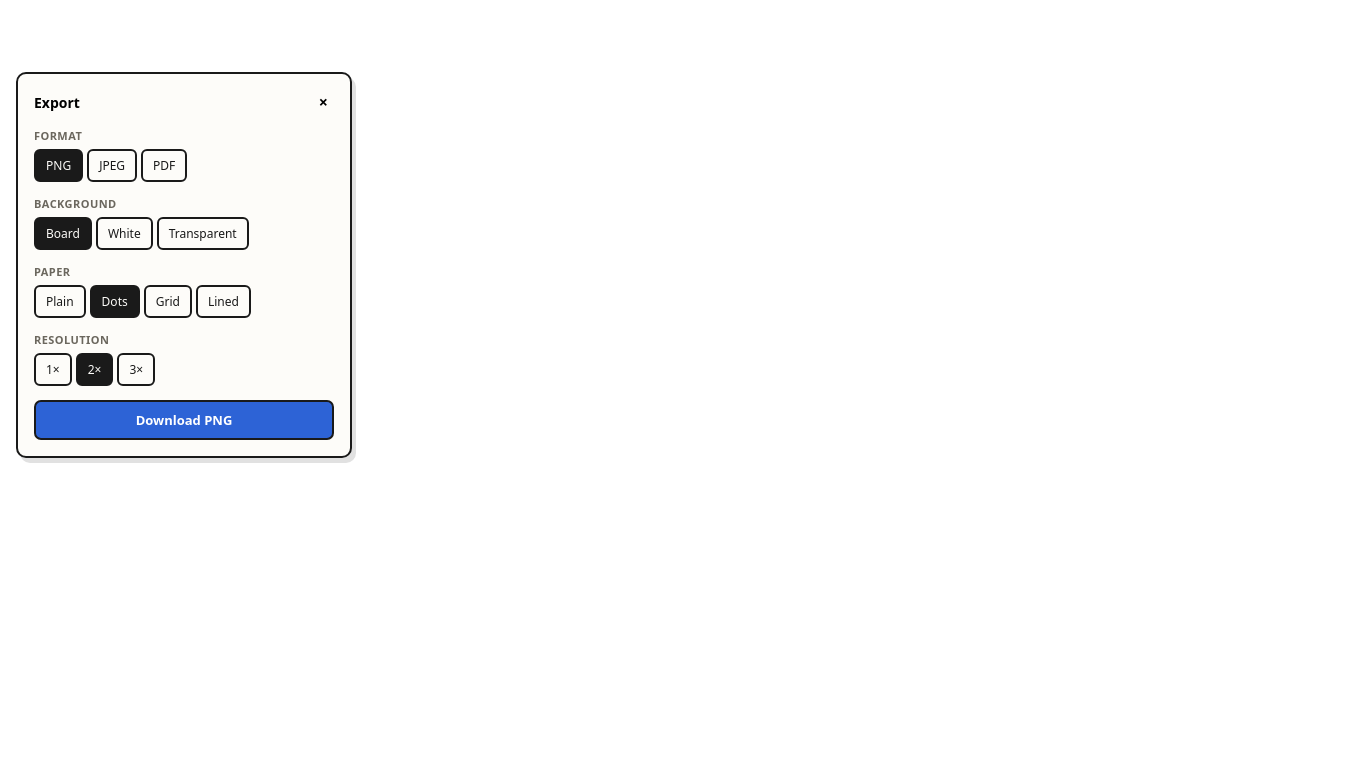
Scenario: ExportDialog › shows what went wrong and stays open
Click the button with test id "export-go": click(184, 420) [34,400,334,440]
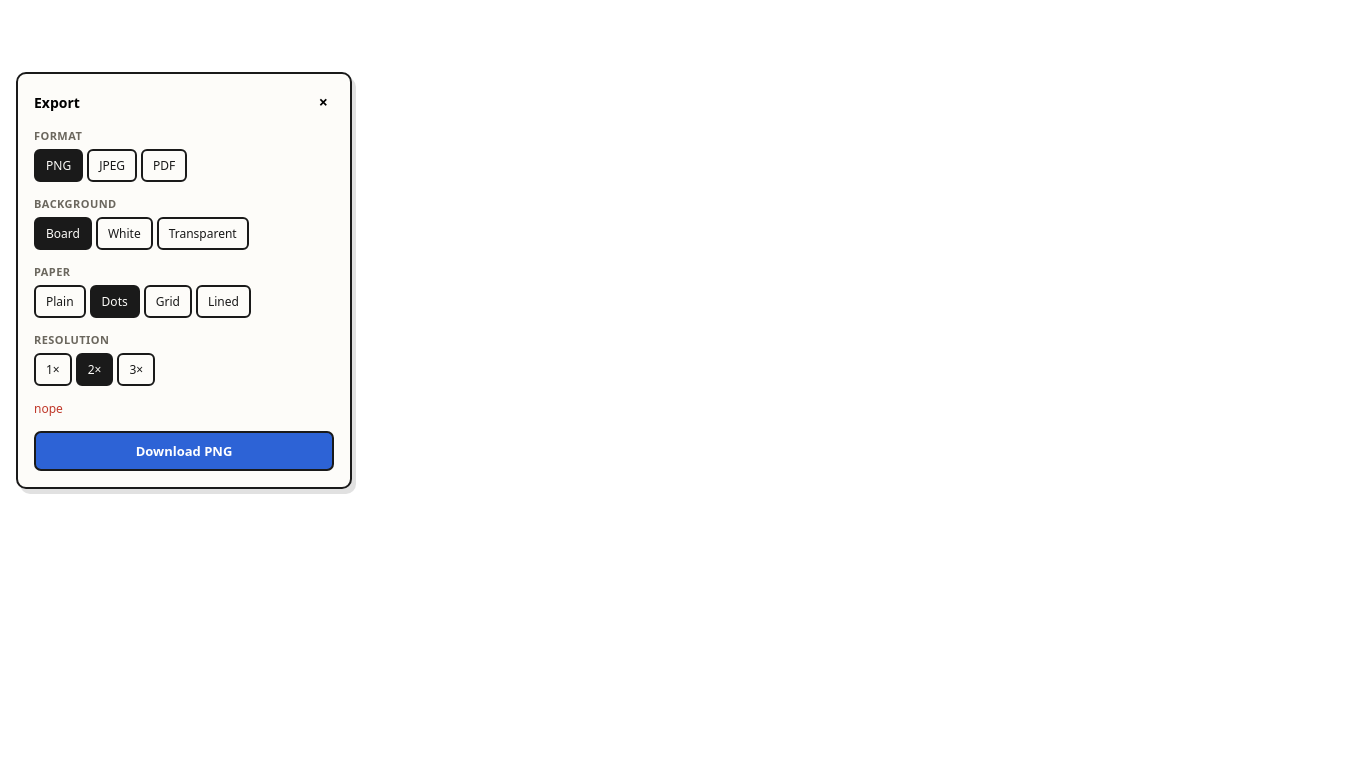
expect the message with test id "export-error" reads "nope": met, box [34,400,63,417]
